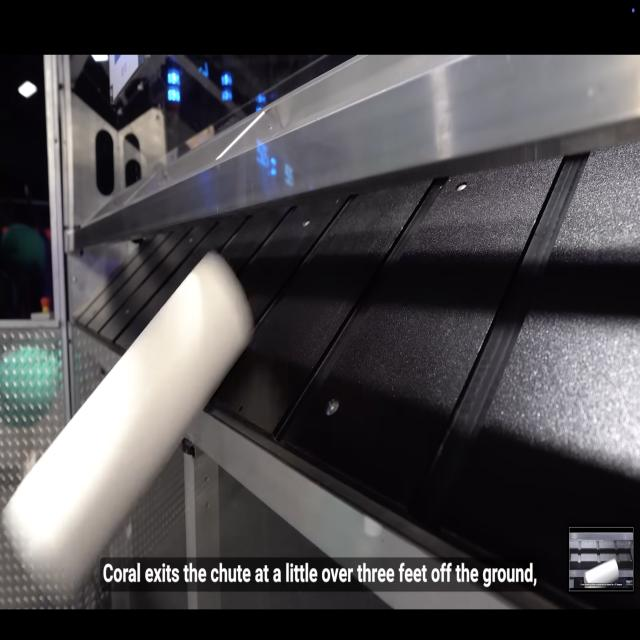coral: (4, 238, 260, 591)
